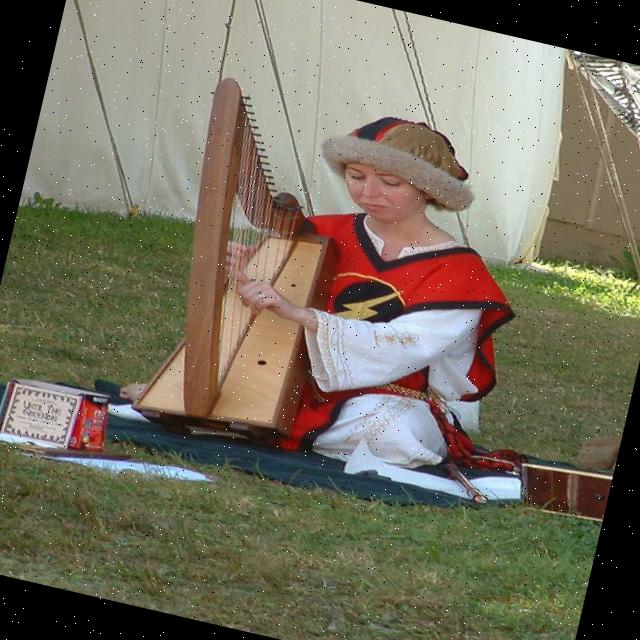harp: (128, 72, 370, 450)
